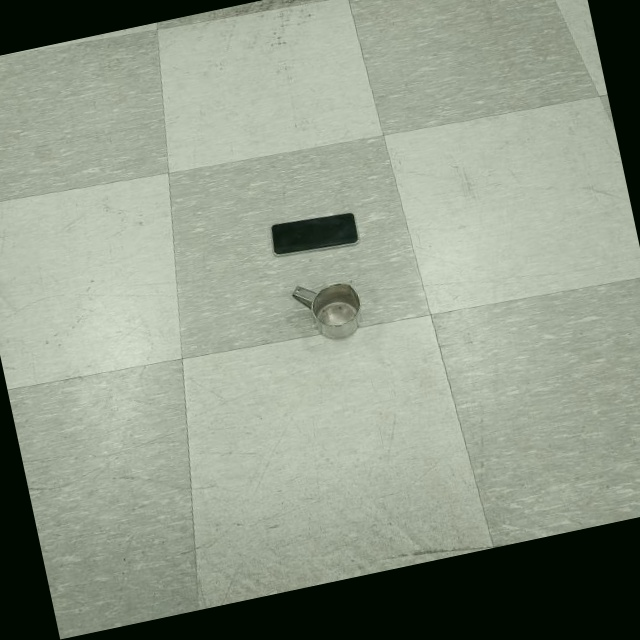cup: (288, 273, 367, 348)
phone: (268, 206, 361, 261)
